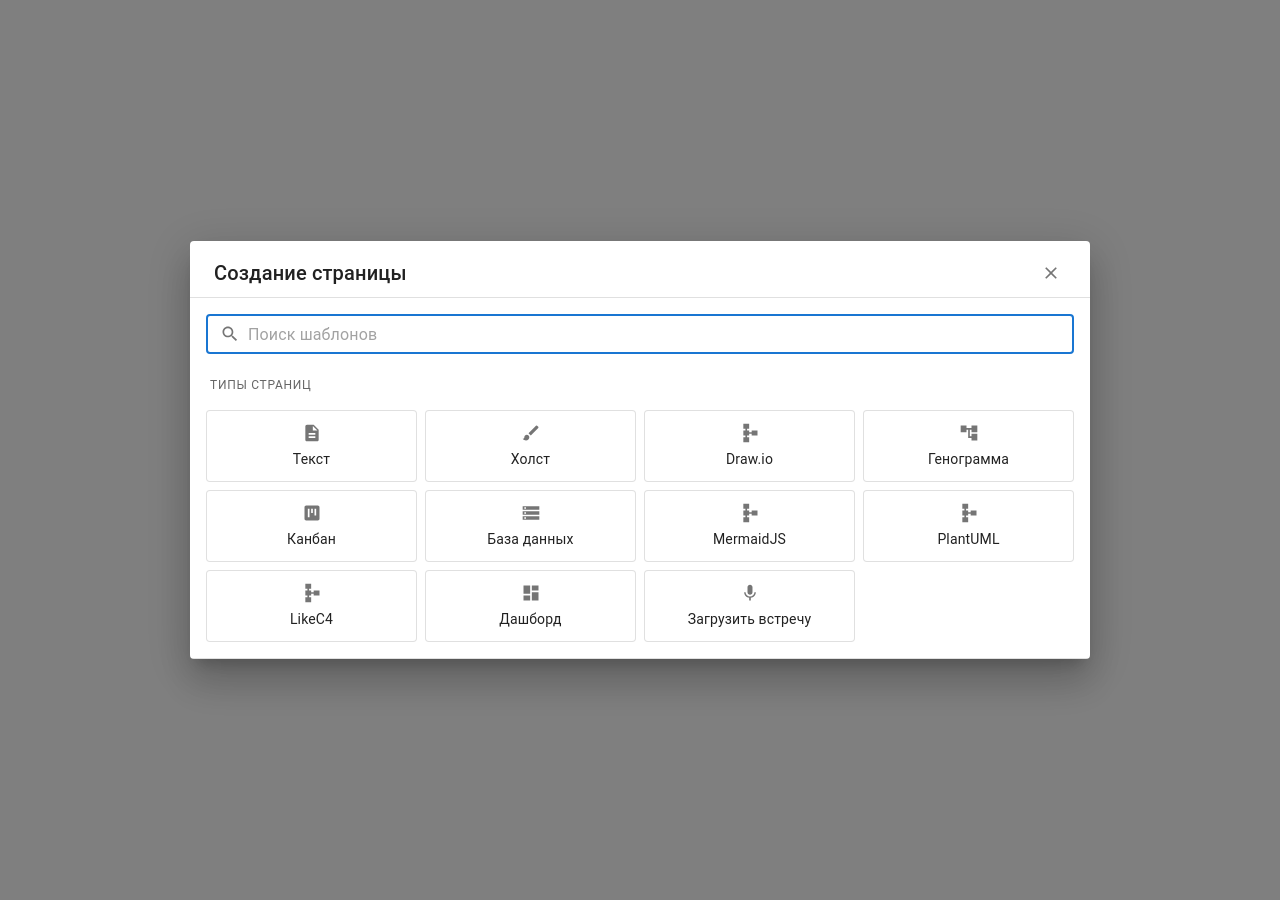
Scenario: CreatePageDialog › shows an error state when the search fails
Type "zzz" into the field labelled "Поиск шаблонов" at (661, 334), box [248,314,1074,354]
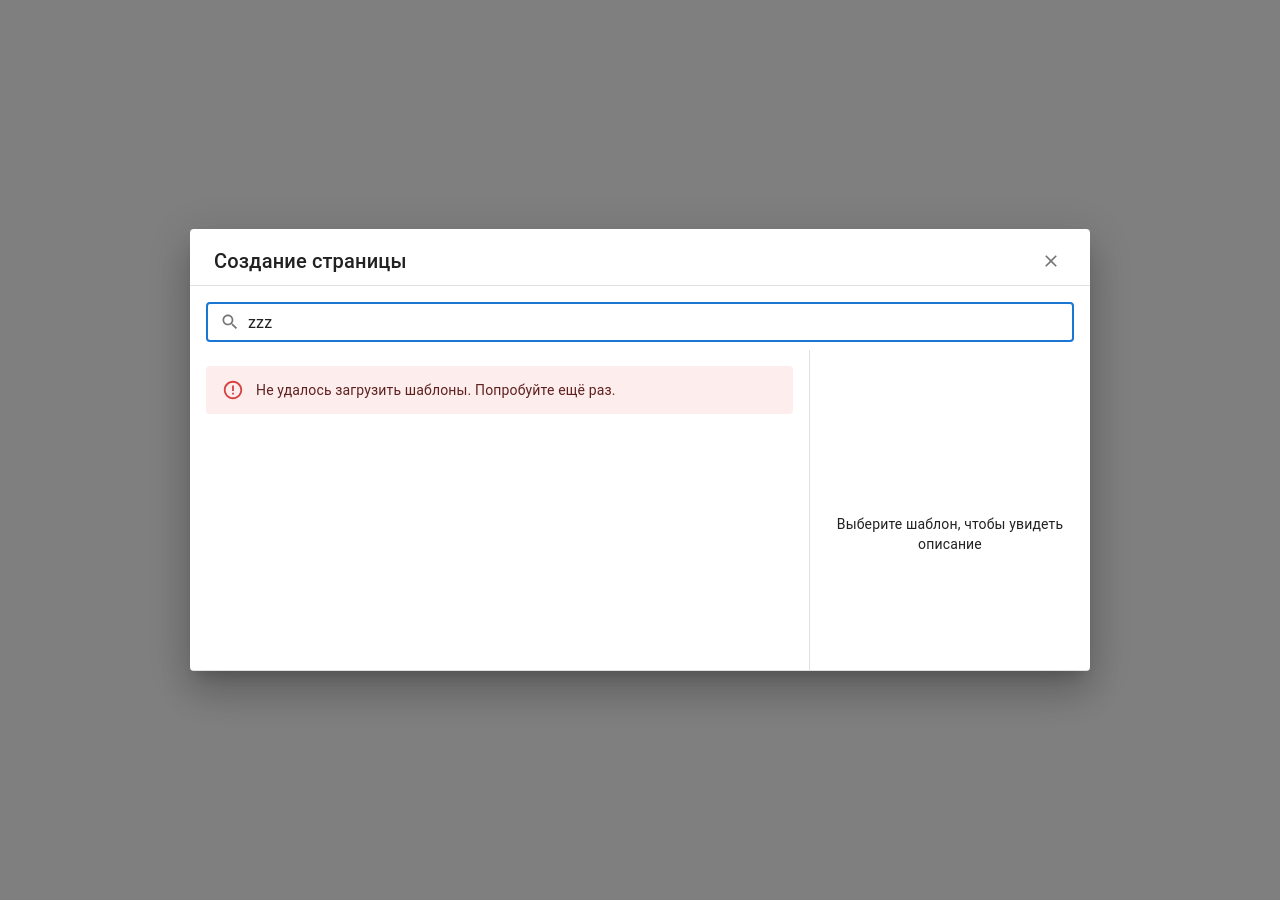
Expected: the text "Не удалось загрузить шаблоны. Попробуйте ещё раз." is shown, [256,382,616,398]
